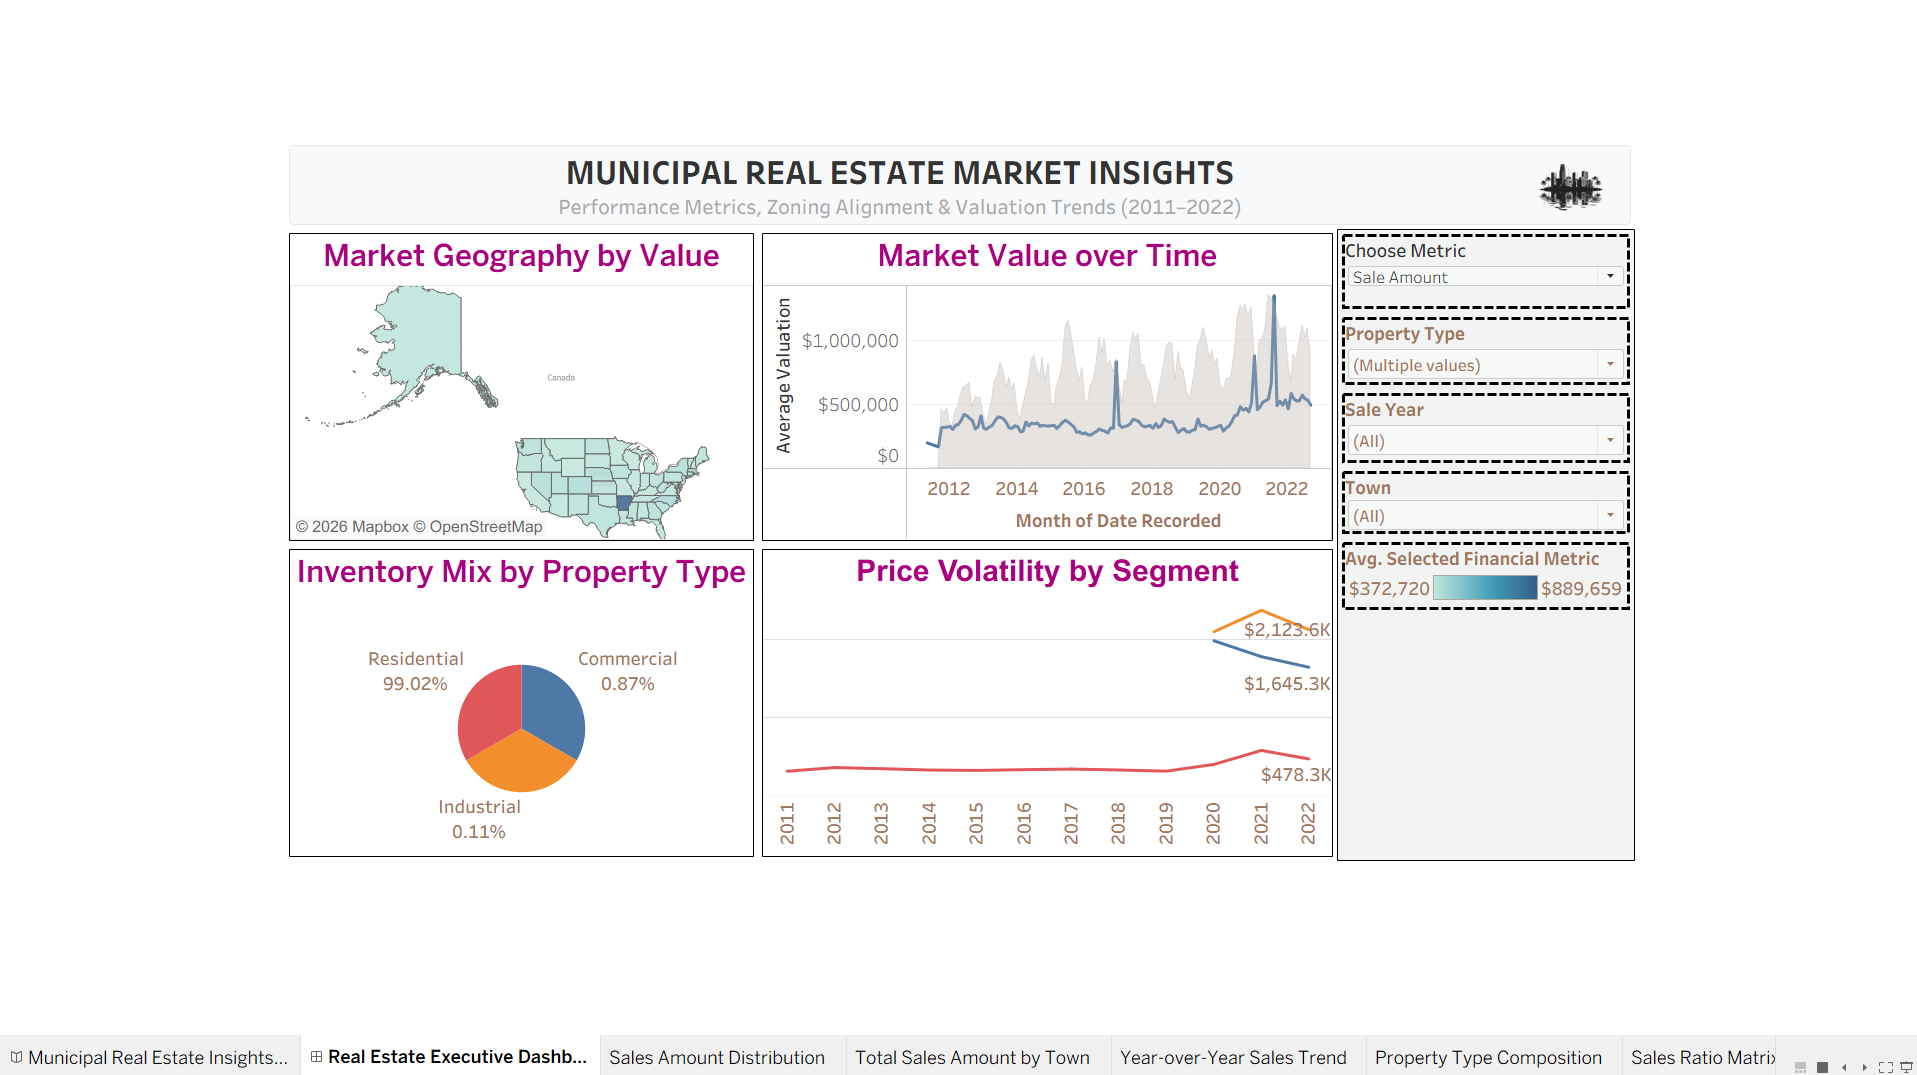

What the dashboard file says about the page in this screenshot:
{"tool":"tableau","page":{"name":"Real Estate Executive Dashboard","canvas":[1366,768],"ordinal":0},"visuals":[{"type":"text","box":[13,13,1220,78]},{"type":"image","param":"Image/pngtree-miami-city-skyline-black-and-white-silhouette-png-image_11948170.p","box":[1233,13,120,78]},{"type":"worksheet","title":"Sales Distribution by State","mark":"Multipolygon","box":[8,96,473,316]},{"type":"worksheet","title":"Continuous Market Trend (Value vs Volume)","mark":"Automatic","rows":["Calculation_0958538344566785","Sheet1_C728BA287D5D406EBD82A4D52A3BC808"],"cols":["Date Recorded"],"box":[481,96,579,316]},{"type":"parameter","param":"[Parameters].[Parameter 0958538323922944]","box":[1061,97,296,83]},{"type":"filter","title":"Sales Distribution by State","param":"[federated.0uru19y15it20m16jdjxa02jj87z].[none:Property Type:nk]","box":[1061,180,296,76]},{"type":"filter","title":"Sales Distribution by State","param":"[federated.0uru19y15it20m16jdjxa02jj87z].[none:Calculation_1318627960299527:ok]","box":[1061,256,296,78]},{"type":"filter","title":"Sales Distribution by State","param":"[federated.0uru19y15it20m16jdjxa02jj87z].[none:Town:nk]","box":[1061,334,296,71]},{"type":"legend","title":"Sales Distribution by State","param":"[federated.0uru19y15it20m16jdjxa02jj87z].[avg:Calculation_0958538344566785:qk]","box":[1061,405,296,76]},{"type":"worksheet","title":"Property Type Composition","mark":"Pie","box":[8,412,473,316]},{"type":"worksheet","title":"Year-over-Year Sales Trend","mark":"Line","rows":["Calculation_1318627950268420"],"cols":["Calculation_1318627960299527"],"box":[481,412,579,316]}]}

Visuals, with their boxes on the page's 1366x768 design canvas (x1, y1, x2, y2). These are canvas units, not pixel positions in the 1917x1075 screenshot, which may show the page scaled, cropped or inside an application window:
text: bbox(13, 13, 1233, 91)
image: bbox(1233, 13, 1353, 91)
"Sales Distribution by State" worksheet (Multipolygon marks): bbox(8, 96, 481, 412)
"Continuous Market Trend (Value vs Volume)" worksheet: bbox(481, 96, 1060, 412)
parameter: bbox(1061, 97, 1357, 180)
"Sales Distribution by State" filter: bbox(1061, 180, 1357, 256)
"Sales Distribution by State" filter: bbox(1061, 256, 1357, 334)
"Sales Distribution by State" filter: bbox(1061, 334, 1357, 405)
"Sales Distribution by State" legend: bbox(1061, 405, 1357, 481)
"Property Type Composition" worksheet (Pie marks): bbox(8, 412, 481, 728)
"Year-over-Year Sales Trend" worksheet (Line marks): bbox(481, 412, 1060, 728)
